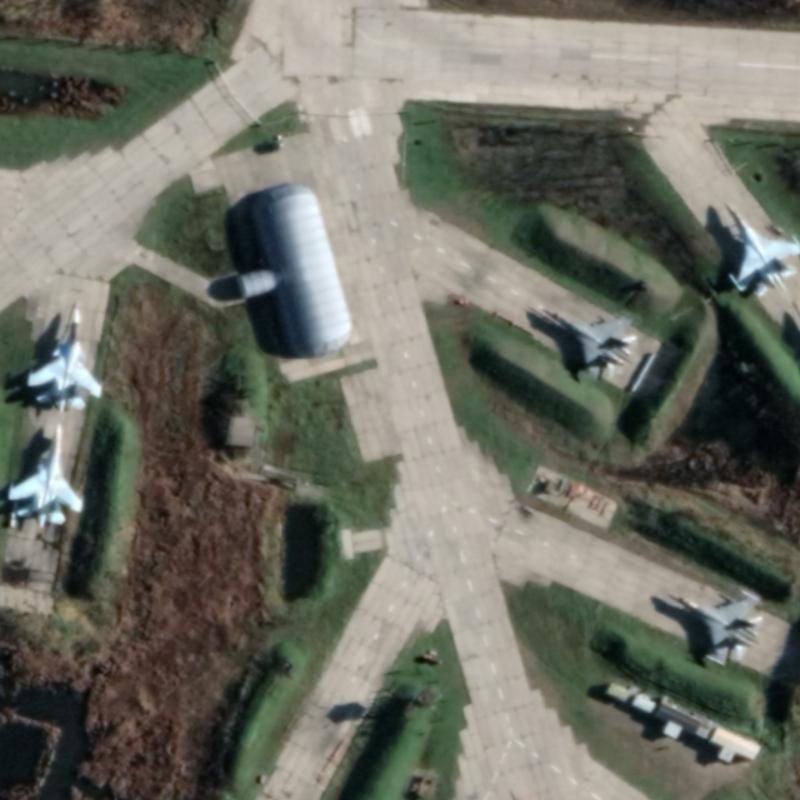A1: (3, 420, 84, 529), (535, 301, 638, 383), (665, 586, 764, 668), (720, 198, 799, 299)
A19: (23, 299, 103, 413)
